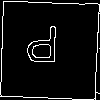P: (24, 25, 60, 72)
